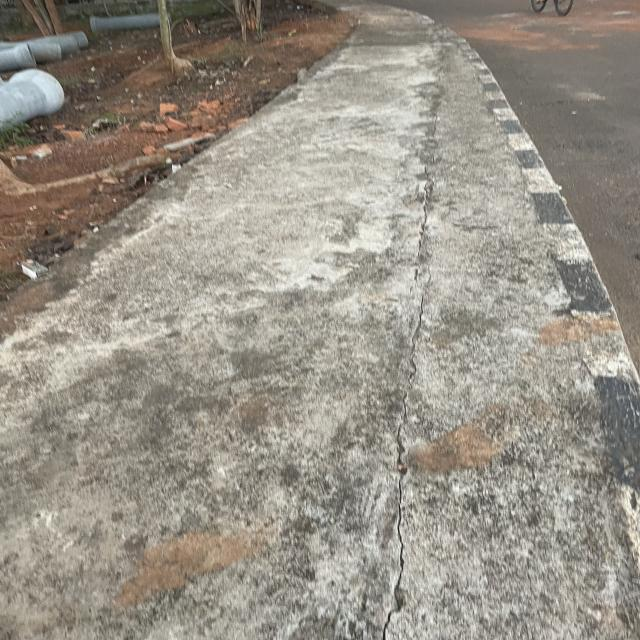D44: (403, 106, 453, 376), (382, 400, 424, 640)
